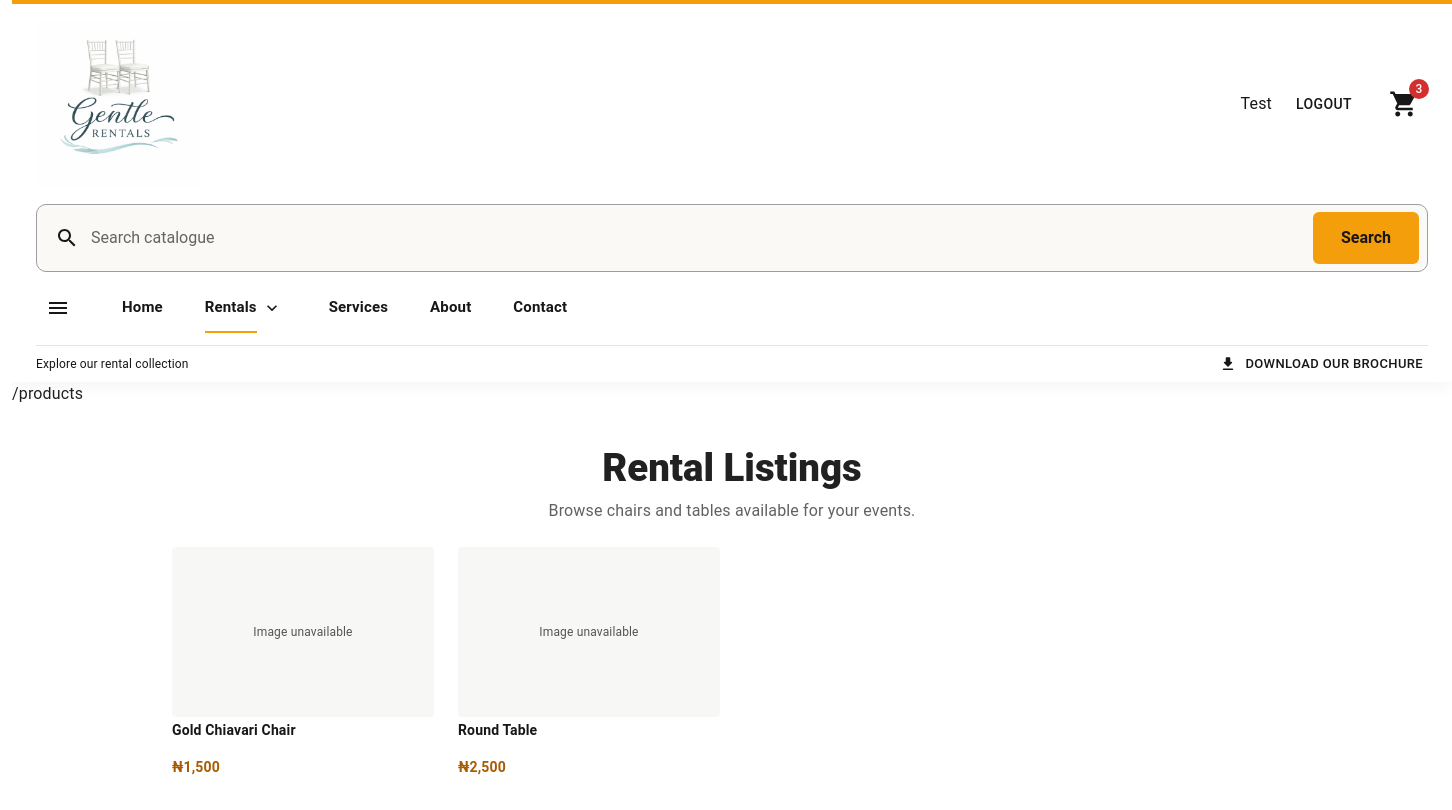
it: hamburger preserves existing routes and closes after navigation
The width and height of the screenshot is (1452, 810).
Expected: the heading "Gold Chiavari Chair" is shown, top-left (172, 722), bottom-right (296, 738)
Click the button named "Open navigation menu".
click(58, 308)  # box top-left (36, 286), bottom-right (80, 330)
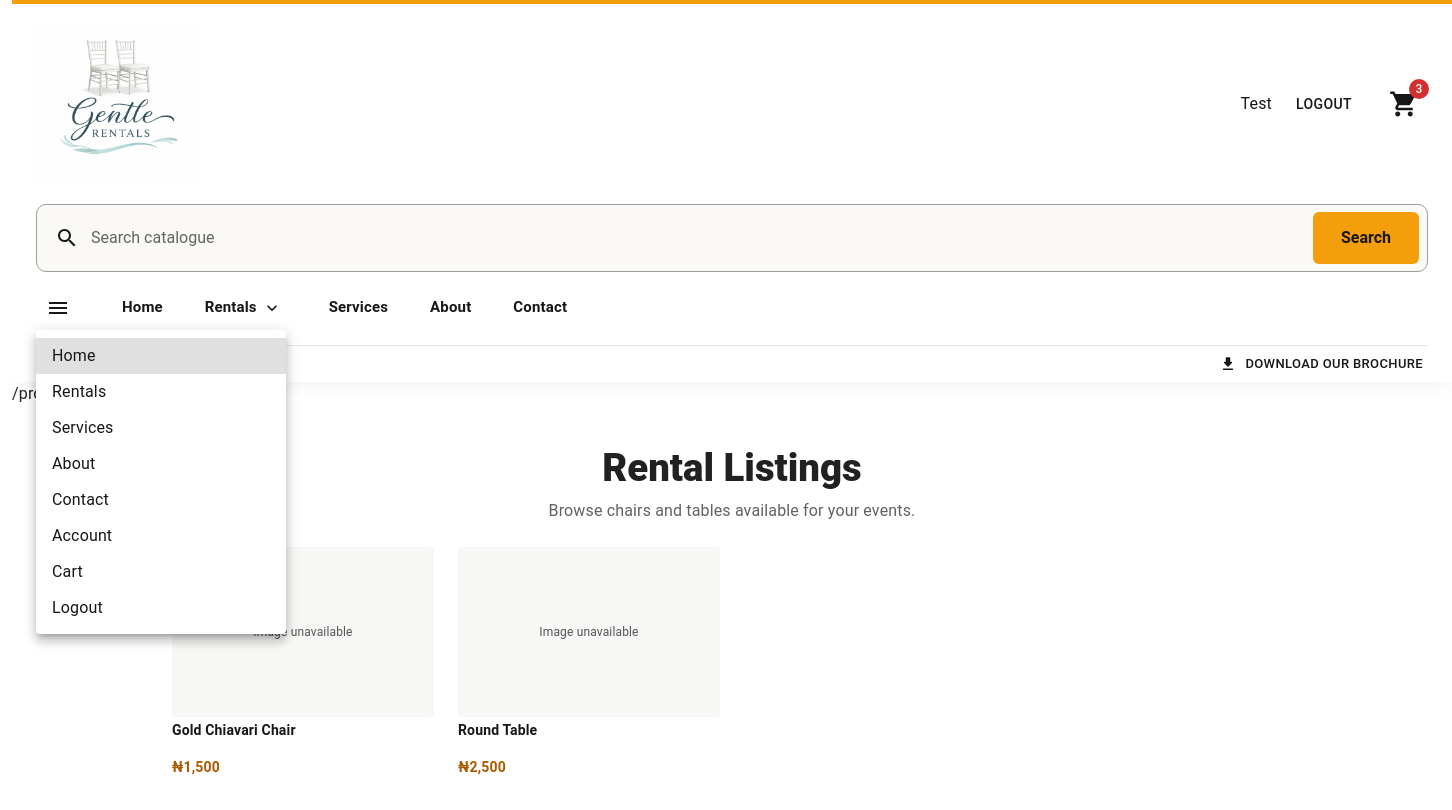
Click the menu item "About".
click(74, 464)  # box top-left (52, 454), bottom-right (95, 473)
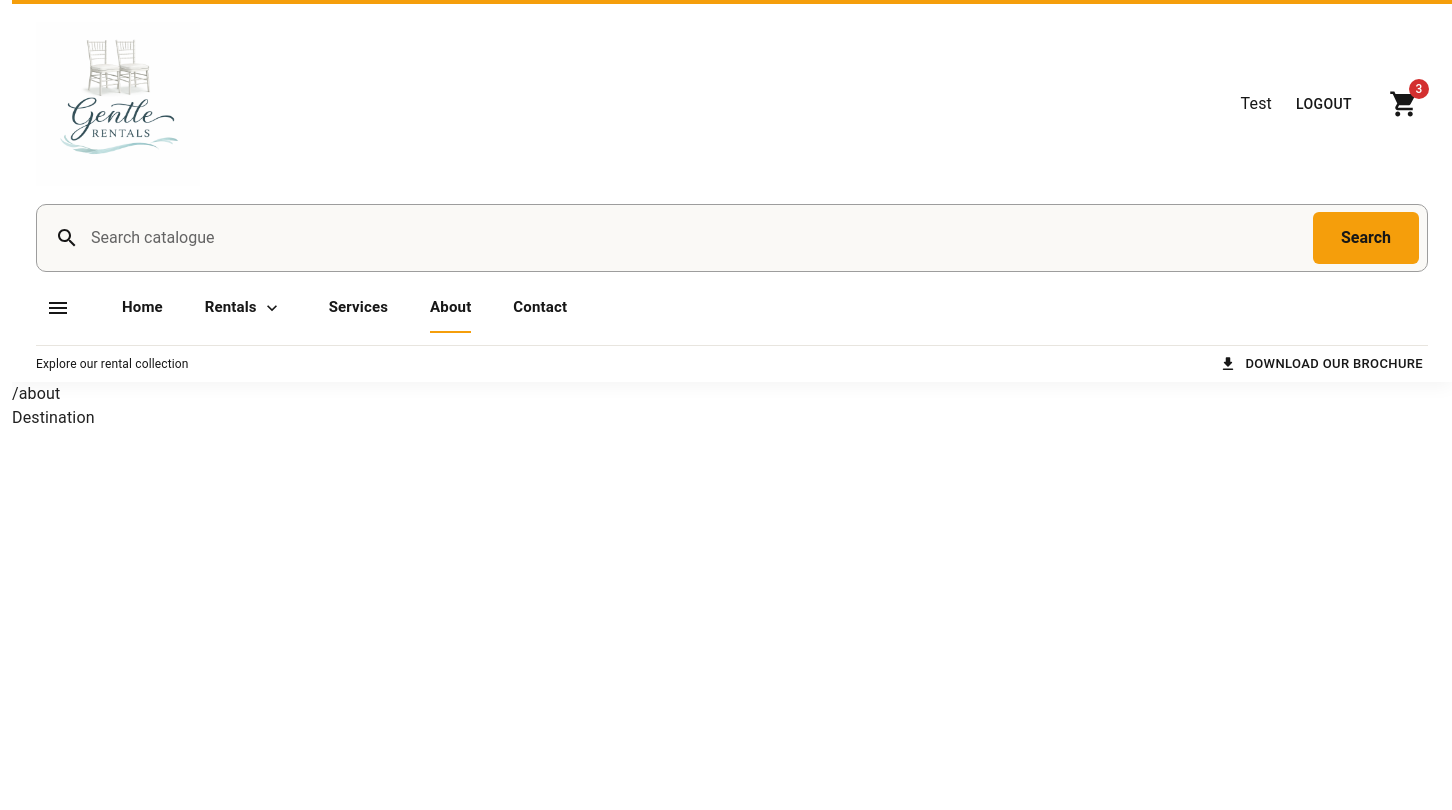
Result: the text with test id "location" reads "/about" at top-left (12, 384), bottom-right (60, 403)
